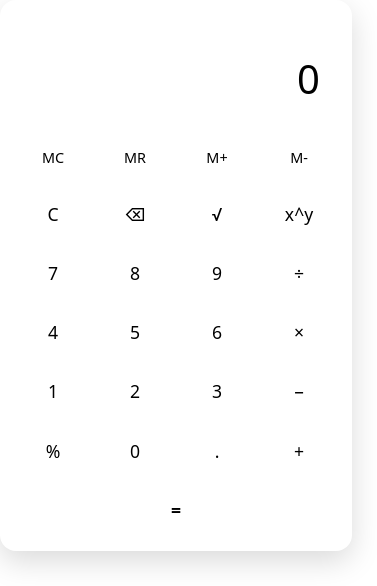
Test: Calculator › wires the keypad to the API: 2 + 3 = shows 5
Click the button named "Digit 2" at (135, 391), box left=98, top=366, right=172, bottom=417
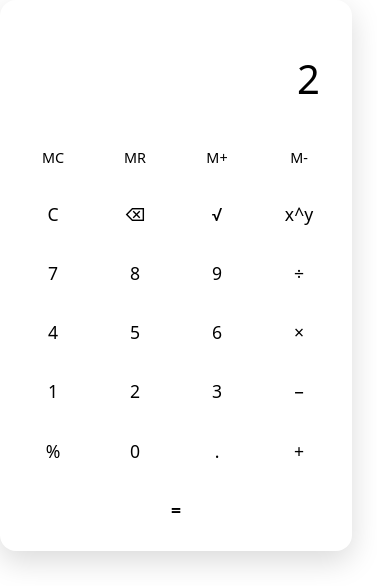
Click the button named "Add" at (299, 450), box left=262, top=425, right=336, bottom=476
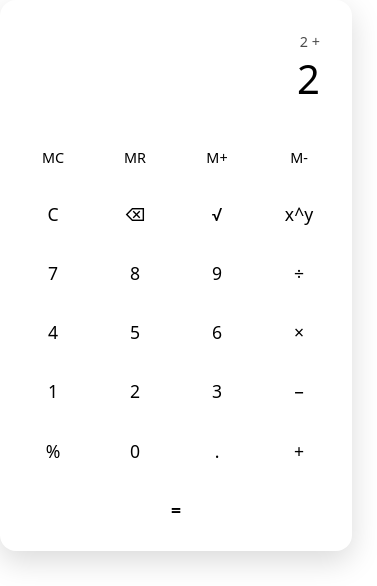
Click the button named "Digit 3" at (217, 391), box left=180, top=366, right=254, bottom=417
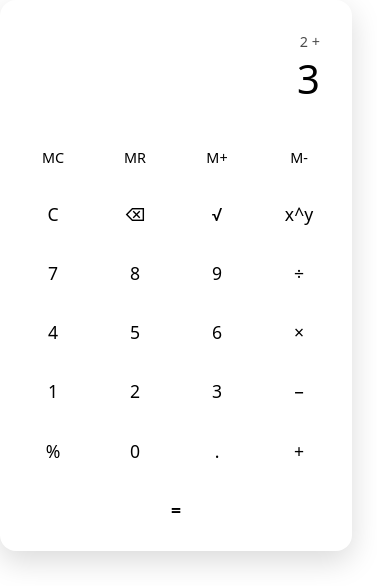
Click the button named "Equals" at (176, 510), box left=16, top=484, right=336, bottom=535
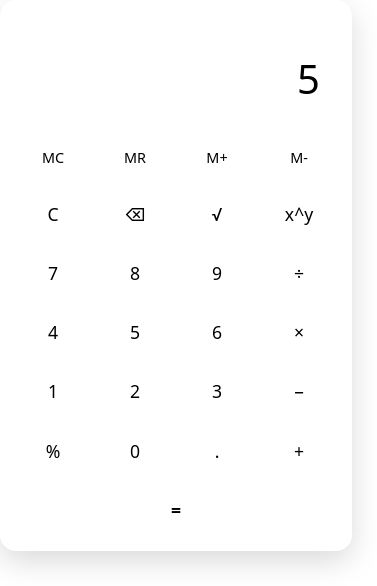
Result: the message reads "5" at left=297, top=51, right=320, bottom=106
